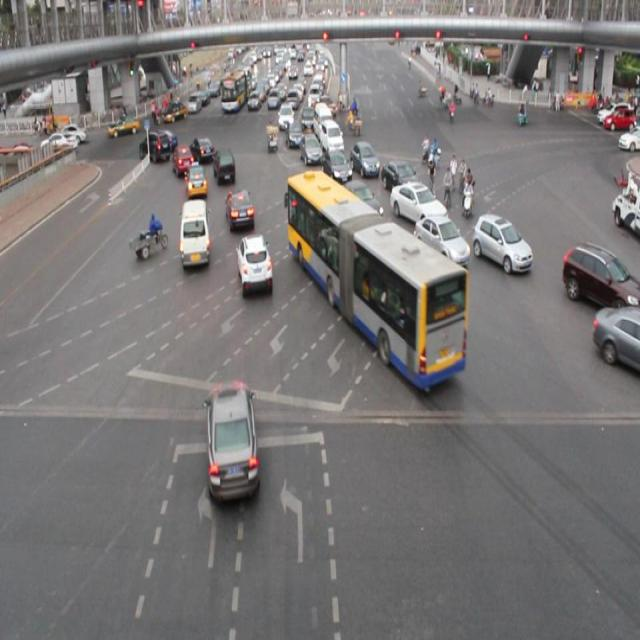car: (204, 381, 259, 506), (561, 241, 640, 314), (472, 213, 531, 273), (594, 304, 640, 368), (390, 180, 447, 227), (415, 215, 467, 265), (235, 235, 273, 295), (337, 178, 383, 222), (380, 159, 422, 195), (225, 188, 255, 230), (350, 141, 378, 177), (139, 132, 169, 162), (324, 148, 349, 183), (212, 148, 235, 186), (185, 162, 208, 198), (172, 144, 195, 178), (191, 134, 213, 163), (301, 134, 321, 163)
truck: (180, 200, 210, 269)
van: (286, 170, 465, 383)
